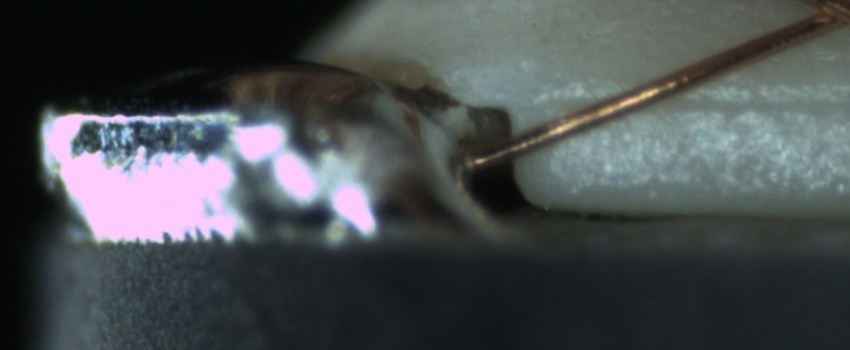CL: (788, 1, 850, 34)
DL: (558, 70, 849, 134)
